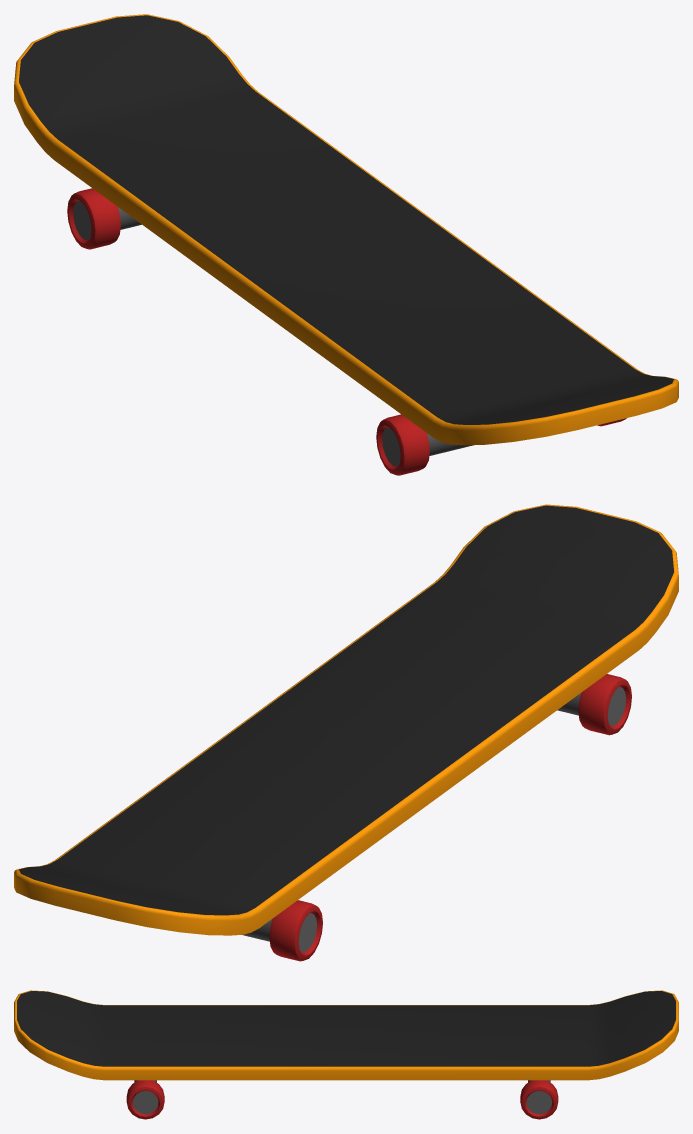
Rendered from Skateboard.fbx.
3 views of the same model, one above another, from view 1: azimuth 30°, elevation 25°; view 2: azimuth 150°, elevation 25°; view 3: azimuth 270°, elevation 25° (orthographic). The views are drawn at different scales.
Visible parts, largest first — view 1: Skateboard; view 2: Skateboard; view 3: Skateboard.
Part boxes in pixels (left/top/right/bottom): Skateboard: left=14, top=14, right=678, bottom=475; Skateboard: left=14, top=504, right=678, bottom=961; Skateboard: left=14, top=990, right=678, bottom=1119.
Size of the model in its own units: 23.02 by 11.22 by 90.46.
Materials: 1 (1 with a texture image).
